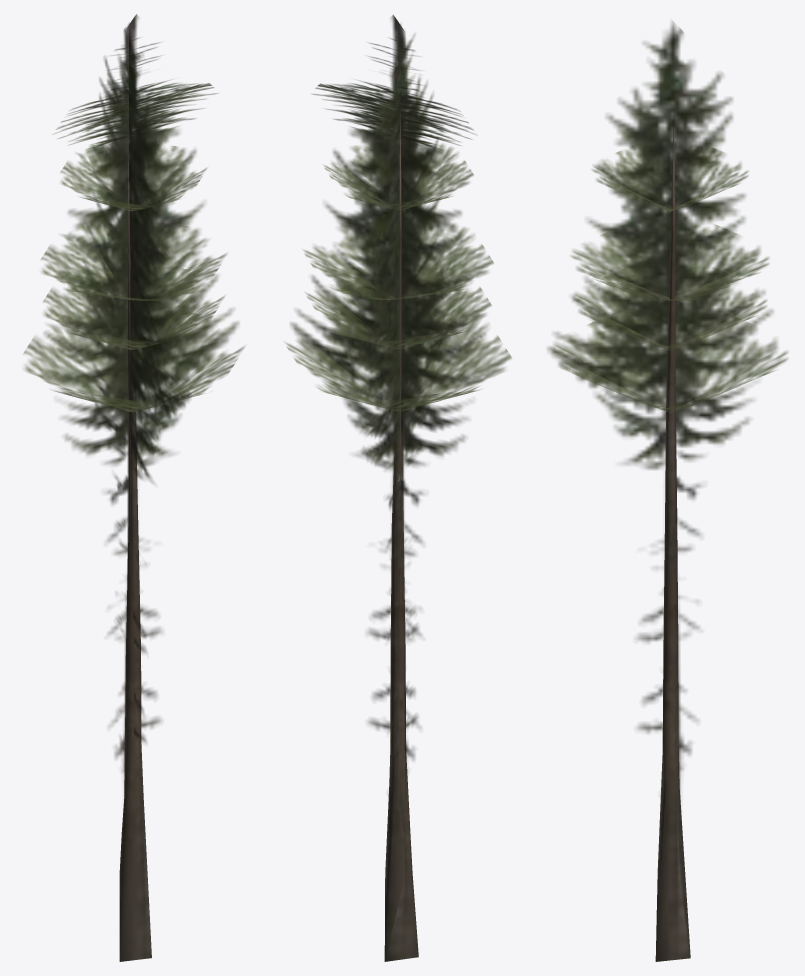
File: distant-tree-07.glb
3 renders of one model, left to right at view 1: azimuth 30°, elevation 25°; view 2: azimuth 150°, elevation 25°; view 3: azimuth 270°, elevation 25°, orthographic.
Parts seen in each view (by area): view 1: Background_Tree_Atlas.006; view 2: Background_Tree_Atlas.006; view 3: Background_Tree_Atlas.006.
Part boxes in pixels (x1,y1,x2,y2): Background_Tree_Atlas.006: [23, 14, 244, 961]; Background_Tree_Atlas.006: [285, 15, 511, 961]; Background_Tree_Atlas.006: [547, 21, 787, 961].
Size of the model in its own units: 610 by 2578 by 607.
Materials: 1 (1 with a texture image).
